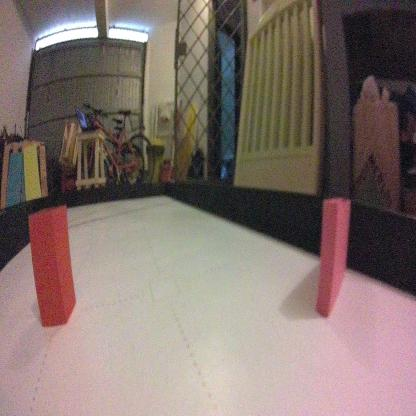magenta: (314, 194, 352, 323)
red: (27, 198, 80, 331)
